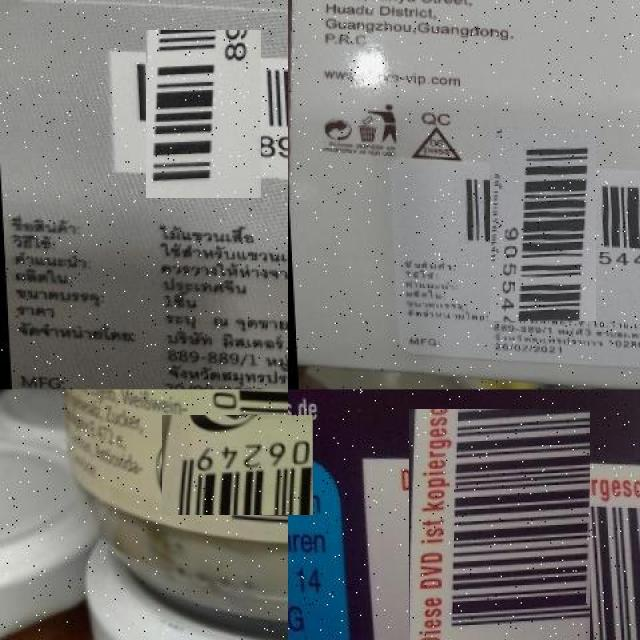Barcode: (385, 433, 616, 640), (467, 149, 618, 299), (133, 43, 275, 185), (174, 402, 301, 527)
